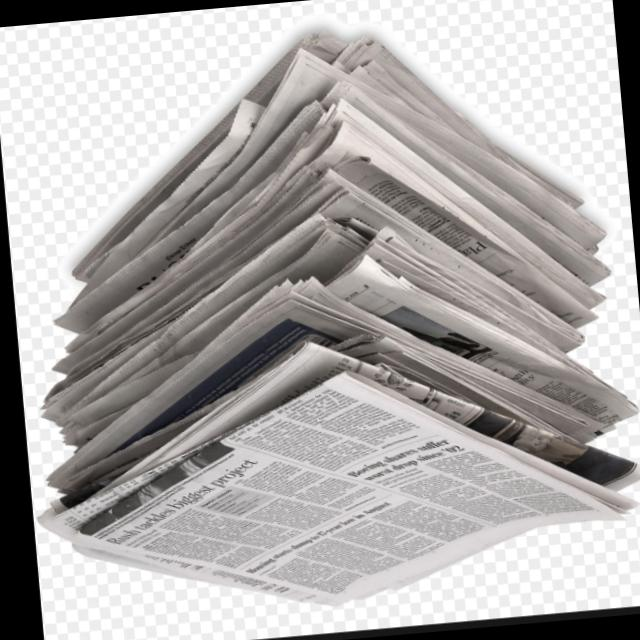Koran: (0, 3, 640, 629)
